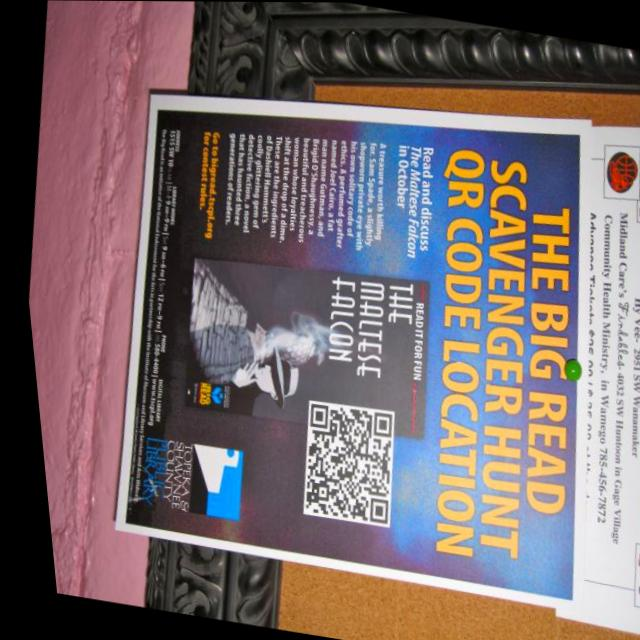qrcode: (286, 402, 394, 525)
